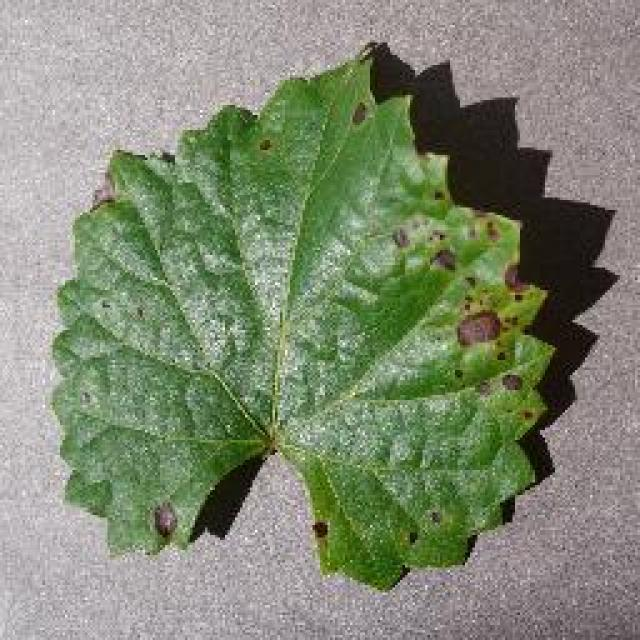Grape___Black_rot: (44, 56, 561, 594)
